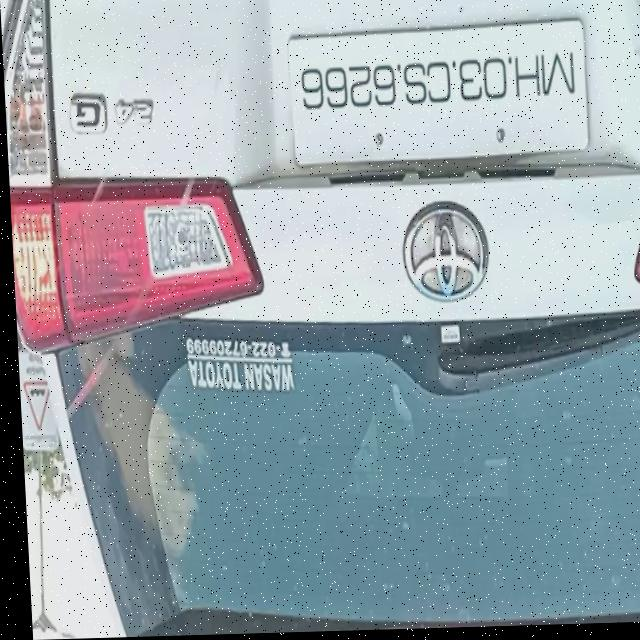plate: (283, 13, 592, 170)
